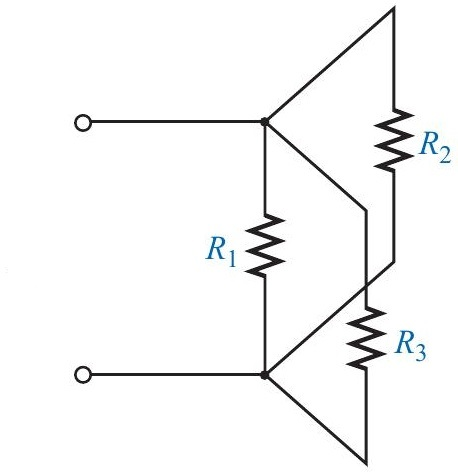resistor: (242, 208, 288, 281), (343, 303, 389, 373), (370, 105, 415, 176)
